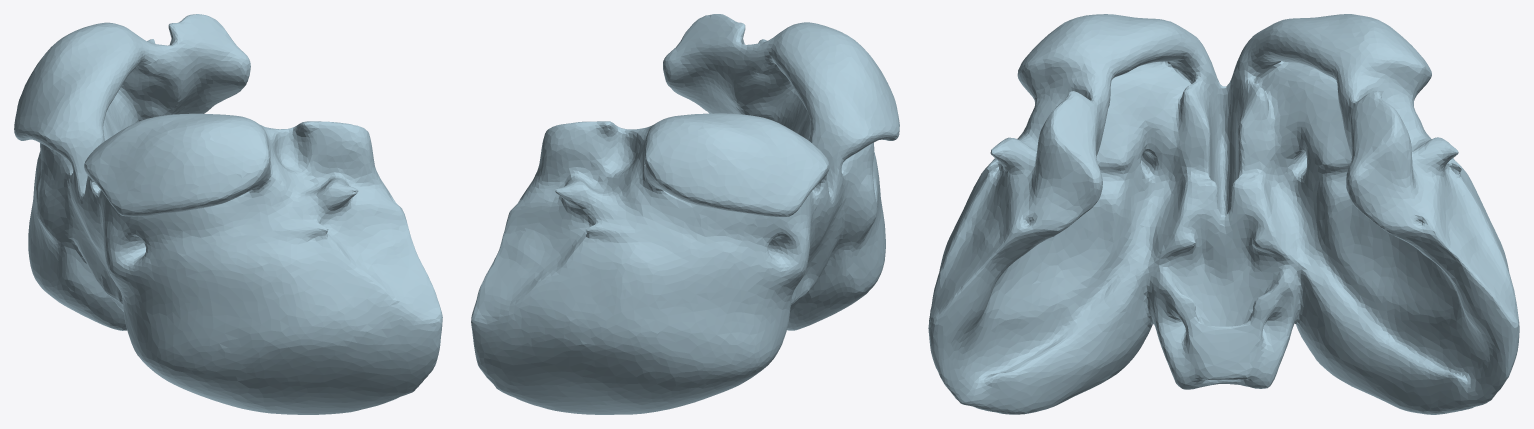
3 renders of one model, left to right at view 1: azimuth 30°, elevation 25°; view 2: azimuth 150°, elevation 25°; view 3: azimuth 270°, elevation 25°, orthographic. The views are drawn at different scales.
Parts seen in each view (by area): view 1: 477.obj; view 2: 477.obj; view 3: 477.obj.
Part boxes in pixels (x1,y1,x2,y2): 477.obj: (14, 14, 442, 414); 477.obj: (471, 14, 899, 414); 477.obj: (928, 14, 1519, 414).
Bounding box in the file's own units: 4380 × 4979 × 7881.
